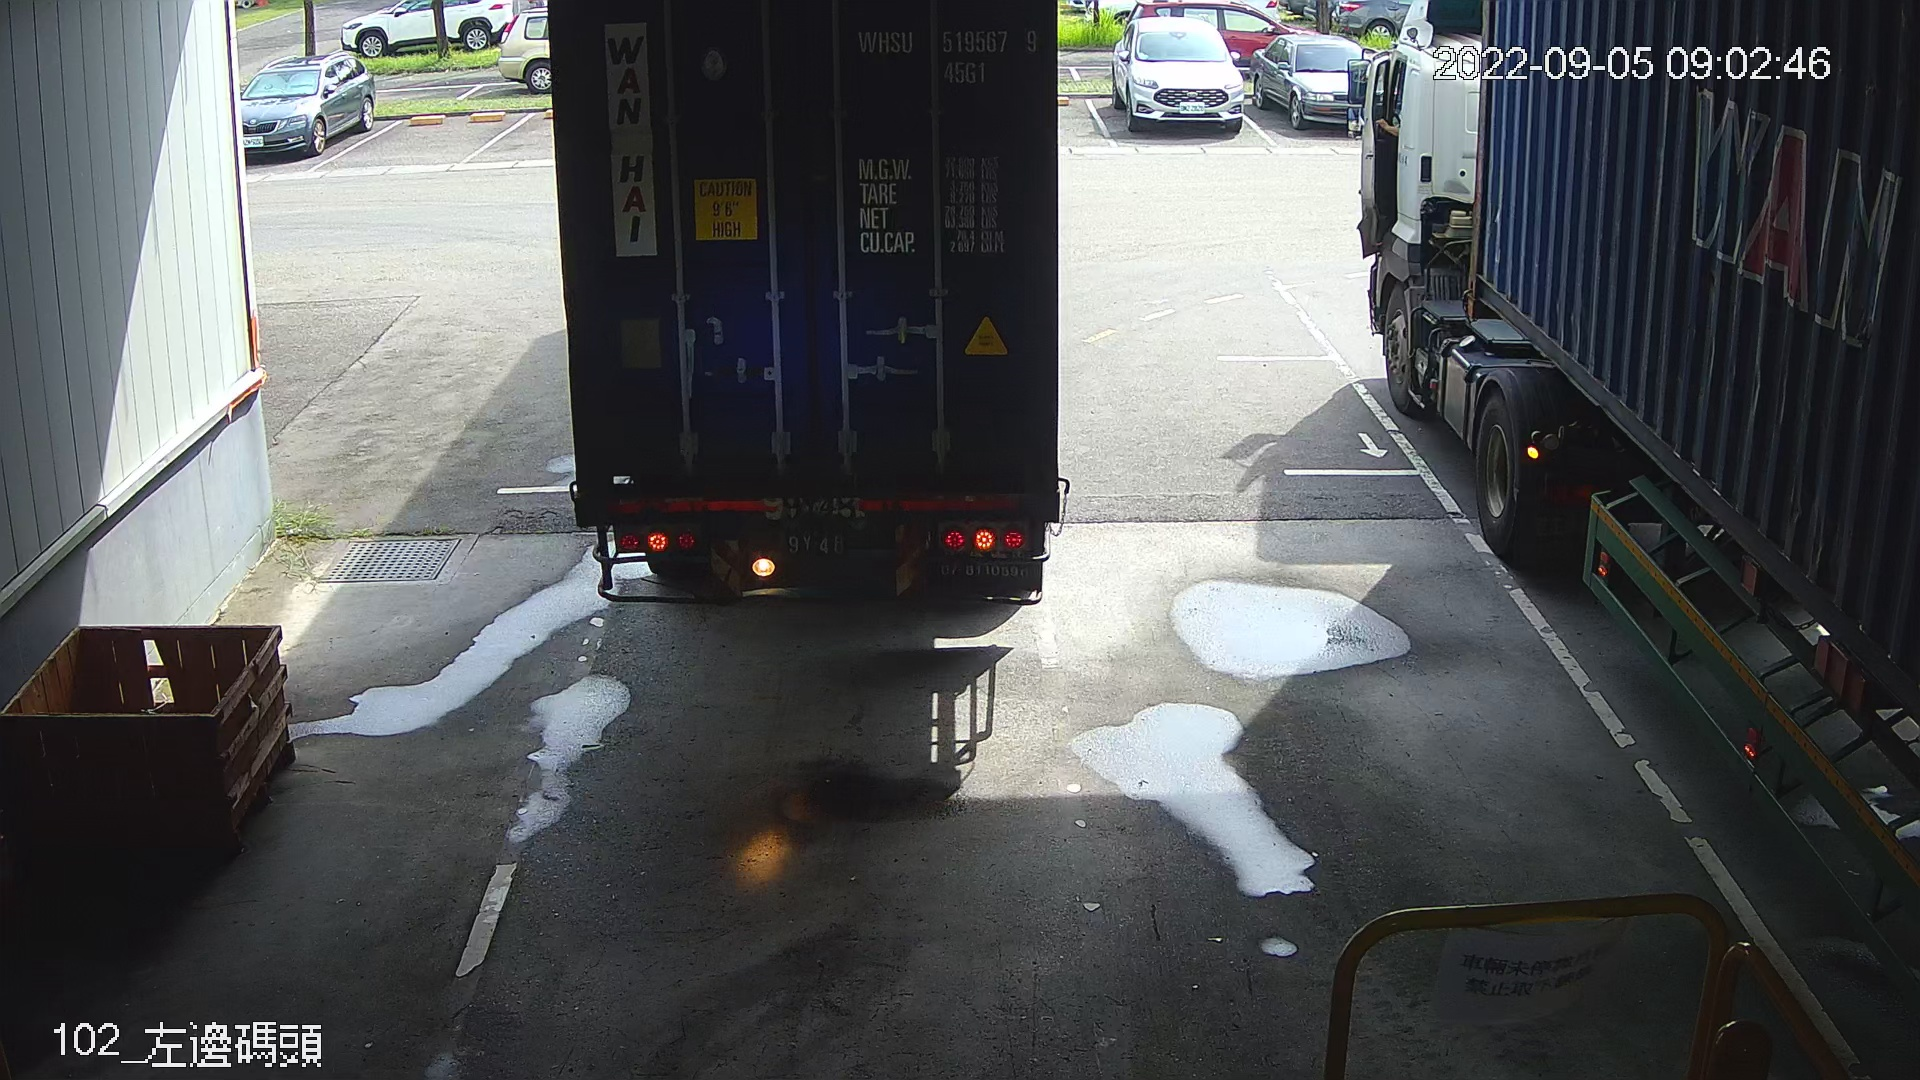container: (851, 15, 1048, 94)
